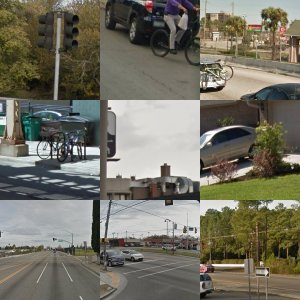汽車: (1, 120, 96, 185), (37, 248, 91, 277), (226, 181, 261, 200), (132, 141, 162, 159)
消防栓: (121, 212, 178, 300), (258, 14, 300, 97), (266, 203, 300, 293)
